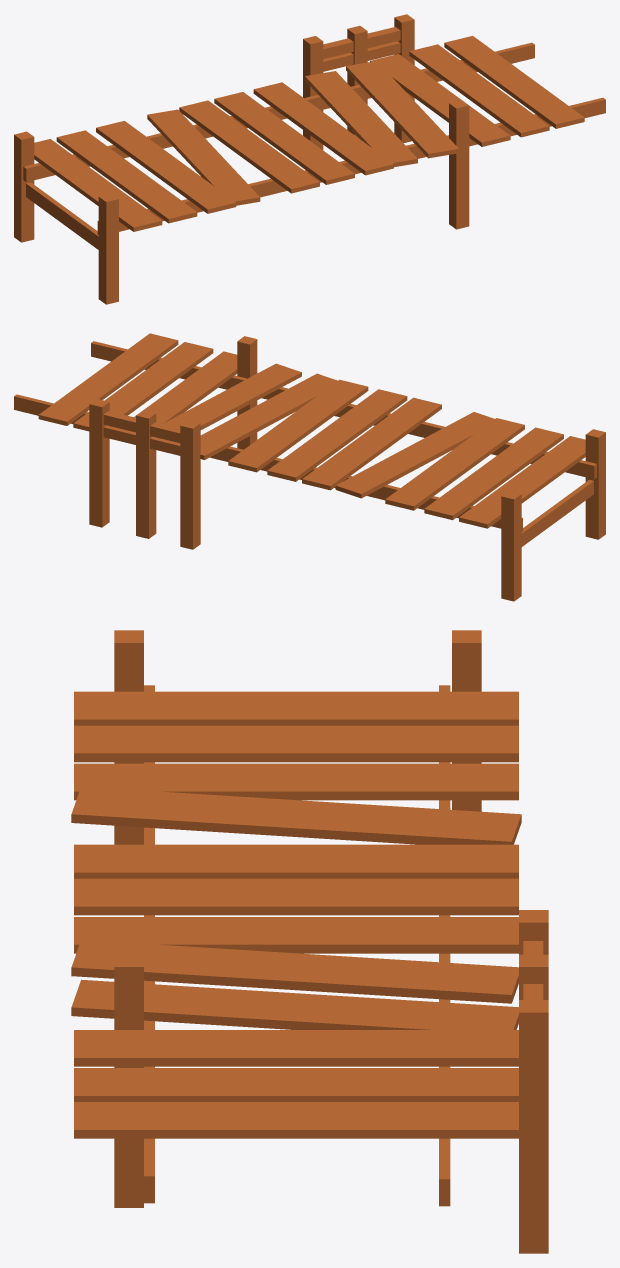
The model's file is Beach_Boardwalk.glb.
The picture shows the model from 3 angles, top to bottom: view 1: azimuth 30°, elevation 25°; view 2: azimuth 150°, elevation 25°; view 3: azimuth 270°, elevation 25°; orthographic projection. The views are drawn at different scales.
Parts seen in each view (by area): view 1: mesh_id105, mesh_id132, mesh_id133, mesh_id126, mesh_id125, mesh_id127, mesh_id99, mesh_id135, mesh_id113, mesh_id128, mesh_id93, mesh_id134 (+11 smaller); view 2: mesh_id126, mesh_id105, mesh_id125, mesh_id113, mesh_id127, mesh_id99, mesh_id132, mesh_id128, mesh_id93, mesh_id133, mesh_id135, mesh_id174 (+11 smaller); view 3: mesh_id105, mesh_id126, mesh_id132, mesh_id134, mesh_id113, mesh_id128, mesh_id125, mesh_id93, mesh_id99, mesh_id133, mesh_id127, mesh_id135 (+8 smaller).
Boxes of the visible parts, x1,y1,x2,y2 form: mesh_id105: [56, 130, 197, 223]; mesh_id132: [444, 36, 584, 128]; mesh_id133: [409, 44, 549, 137]; mesh_id126: [214, 92, 354, 184]; mesh_id125: [179, 100, 319, 193]; mesh_id127: [253, 82, 393, 175]; mesh_id99: [96, 121, 236, 213]; mesh_id135: [346, 62, 458, 158]; mesh_id113: [147, 109, 260, 205]; mesh_id128: [305, 71, 417, 167]; mesh_id93: [34, 139, 162, 231]; mesh_id134: [370, 54, 510, 146]; mesh_id126: [267, 389, 407, 481]; mesh_id105: [424, 427, 563, 520]; mesh_id125: [302, 397, 441, 490]; mesh_id113: [335, 412, 499, 498]; mesh_id127: [228, 379, 368, 472]; mesh_id99: [385, 418, 524, 510]; mesh_id132: [38, 333, 178, 425]; mesh_id128: [200, 373, 342, 459]; mesh_id93: [459, 436, 585, 528]; mesh_id133: [73, 342, 213, 431]; mesh_id135: [162, 363, 301, 429]; mesh_id174: [180, 420, 200, 549]; mesh_id105: [74, 725, 518, 762]; mesh_id126: [74, 878, 518, 915]; mesh_id132: [74, 1102, 518, 1138]; mesh_id134: [74, 1030, 518, 1066]; mesh_id113: [71, 786, 521, 844]; mesh_id128: [71, 940, 518, 1003]; mesh_id125: [74, 844, 518, 878]; mesh_id93: [74, 691, 518, 725]; mesh_id99: [74, 763, 518, 800]; mesh_id133: [74, 1068, 518, 1101]; mesh_id127: [74, 917, 518, 953]; mesh_id135: [71, 979, 518, 1034].
Size of the model in its own units: 1.58 by 0.3594 by 0.6417.
Materials: 6 (6 with a texture image).
